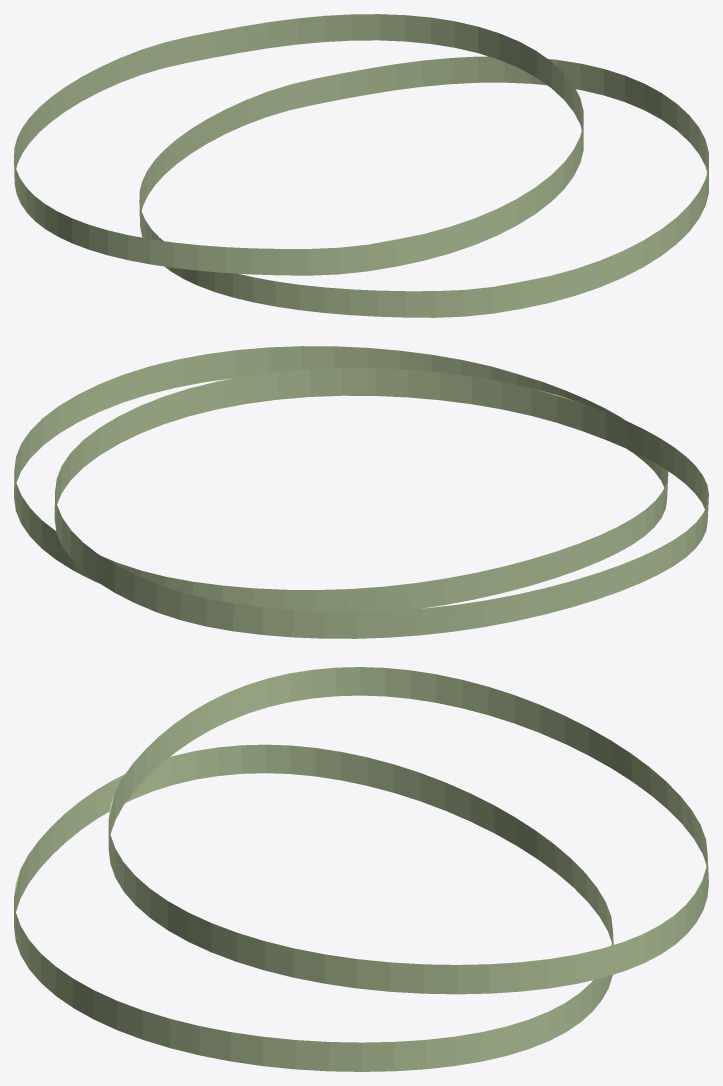
The model's file is bombay sliced1.glb.
The picture shows the model from 3 angles, top to bottom: view 1: azimuth 30°, elevation 25°; view 2: azimuth 150°, elevation 25°; view 3: azimuth 270°, elevation 25°; orthographic projection. The views are drawn at different scales.
Visible parts, largest first — view 1: Circle.002, Circle.001; view 2: Circle.002, Circle.001; view 3: Circle.002, Circle.001.
Part boxes in pixels (x1,y1,x2,y2): Circle.002: (14,14,583,275); Circle.001: (139,56,708,317); Circle.002: (54,368,708,638); Circle.001: (14,346,668,611); Circle.002: (108,667,708,994); Circle.001: (14,744,613,1071).
Bounding box in the file's own units: 2.01 × 0.251 × 1.79.
